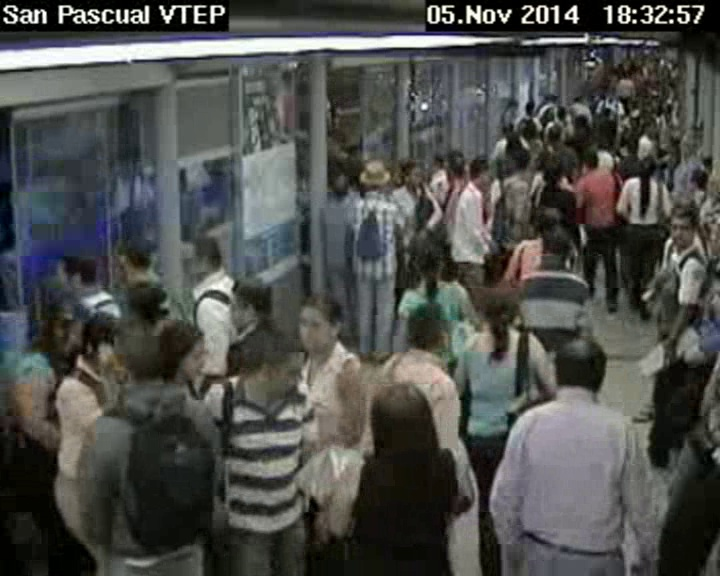person: (369, 377, 440, 452), (39, 300, 100, 361), (159, 316, 211, 385), (554, 332, 608, 398), (247, 336, 303, 390), (82, 308, 128, 373), (116, 324, 170, 379), (299, 288, 343, 353), (113, 230, 170, 279), (220, 272, 269, 324), (175, 232, 227, 279), (60, 240, 101, 295), (408, 231, 449, 286), (403, 306, 448, 351), (481, 285, 525, 331), (663, 205, 702, 247), (539, 223, 577, 260), (356, 154, 390, 193), (466, 157, 492, 191), (445, 149, 466, 186), (538, 155, 561, 184), (399, 155, 421, 185), (507, 149, 531, 176), (686, 167, 708, 191), (328, 172, 349, 192), (637, 155, 657, 176), (501, 131, 521, 150), (583, 149, 600, 171), (598, 136, 618, 152), (554, 105, 569, 122), (518, 121, 536, 135), (548, 124, 561, 143), (640, 119, 655, 134), (523, 99, 537, 115), (601, 105, 615, 119), (505, 99, 518, 114), (433, 152, 445, 168), (576, 113, 588, 127), (543, 93, 557, 104), (573, 92, 585, 104)
